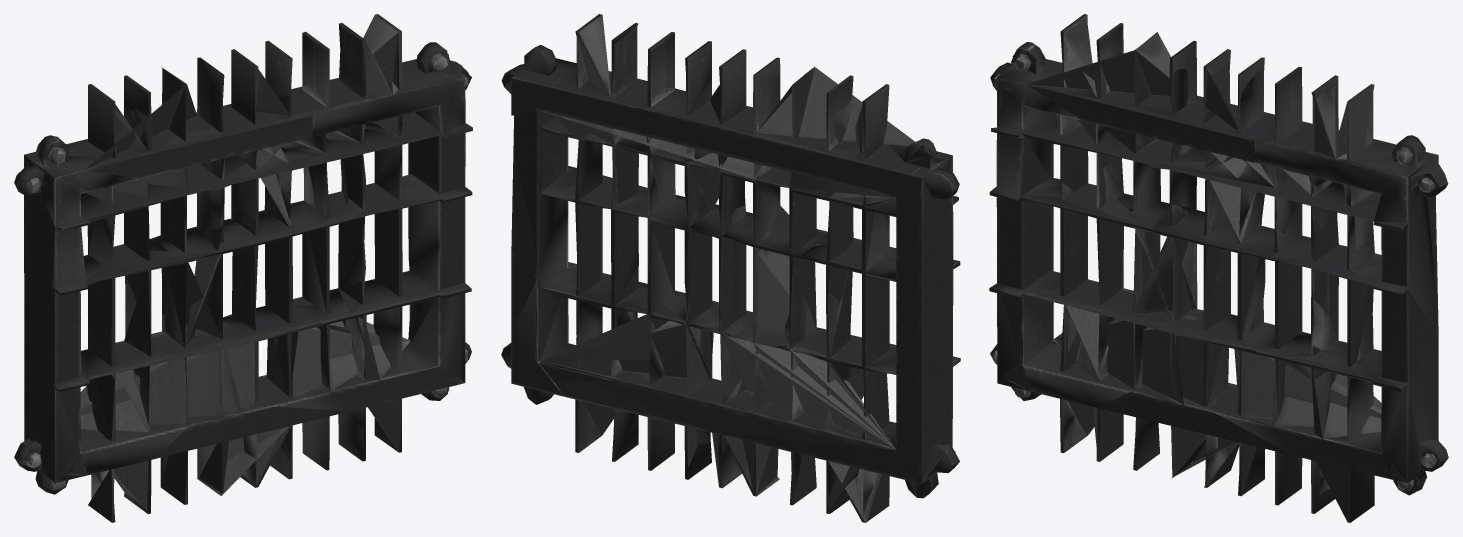
The model's file is Grille.fbx.
3 renders of one model, left to right at view 1: azimuth 30°, elevation 25°; view 2: azimuth 150°, elevation 25°; view 3: azimuth 330°, elevation 25°, orthographic.
Visible parts, largest first — view 1: Mesh_0; view 2: Mesh_0; view 3: Mesh_0.
Boxes of the visible parts, x1=… form: Mesh_0: x1=14, y1=14, x2=472, y2=522; Mesh_0: x1=501, y1=14, x2=960, y2=522; Mesh_0: x1=989, y1=14, x2=1448, y2=522.
Bounding box in the file's own units: 190 × 169 × 27.11.
Materials: 1 (1 with a texture image).
